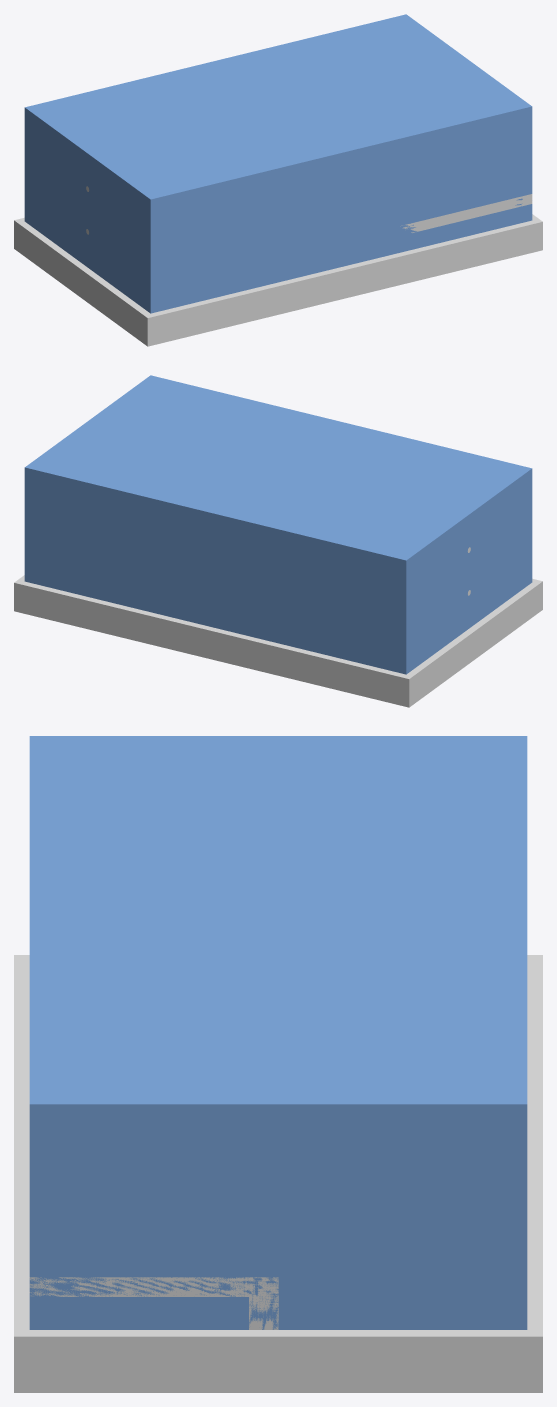
File: Map02.fbx
3 views of the same model, one above another, from view 1: azimuth 30°, elevation 25°; view 2: azimuth 150°, elevation 25°; view 3: azimuth 270°, elevation 25° (orthographic). The views are drawn at different scales.
Parts seen in each view (by area): view 1: Shield, Base, Obstacle01; view 2: Shield, Base; view 3: Shield, Base, Obstacle01.
Part boxes in pixels (<box>): Shield: <box>24,14,532,313</box>; Base: <box>14,214,542,346</box>; Obstacle01: <box>400,194,532,232</box>; Shield: <box>24,375,532,674</box>; Base: <box>14,575,542,707</box>; Shield: <box>29,736,527,1329</box>; Base: <box>14,955,542,1392</box>; Obstacle01: <box>29,1277,278,1329</box>.
Size of the model in its own units: 2900 by 1000 by 1700.
